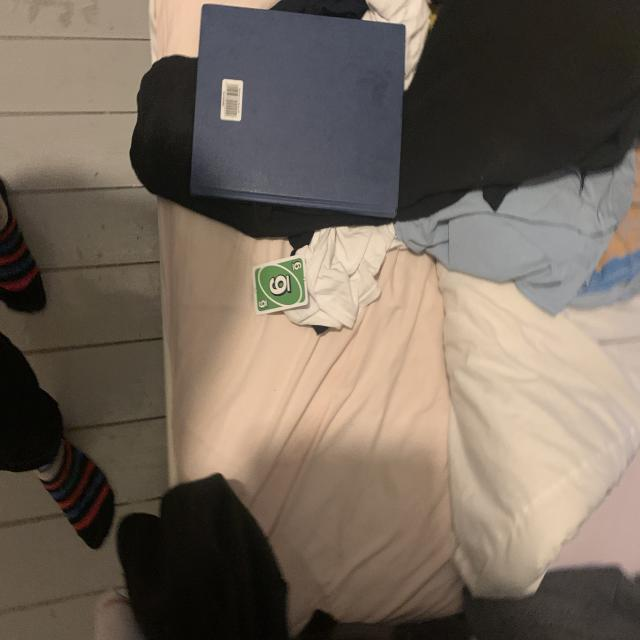lgreen-6: (290, 259, 303, 272)
